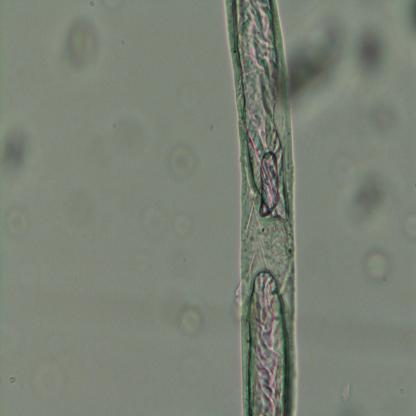Background material: (282, 16, 345, 108), (343, 162, 398, 224), (349, 12, 392, 89), (0, 128, 38, 184), (65, 16, 102, 68), (112, 103, 146, 159), (167, 138, 200, 184), (362, 242, 392, 286), (4, 205, 32, 243), (177, 302, 206, 338), (338, 374, 352, 405)
Cotton: (221, 1, 299, 416)
